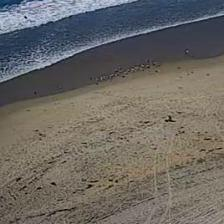surfer: (24, 16, 28, 18)
